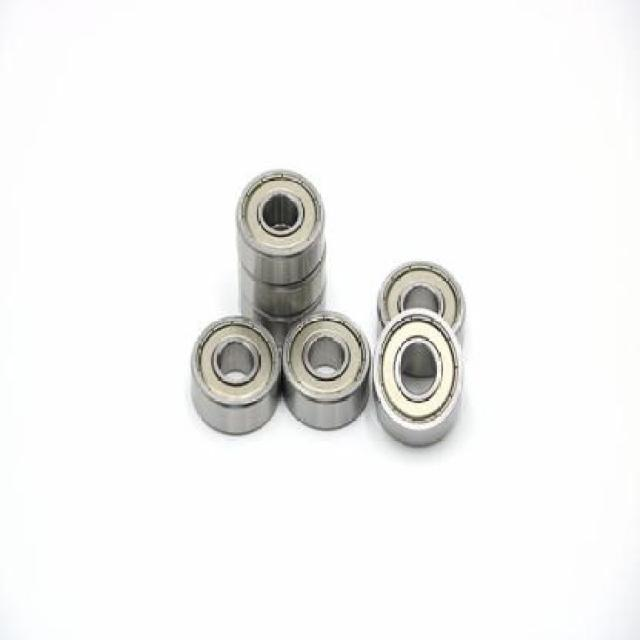Bearing: (372, 307, 466, 448), (281, 310, 375, 433), (189, 314, 281, 438), (233, 166, 328, 286), (374, 258, 468, 378), (236, 267, 329, 316)
